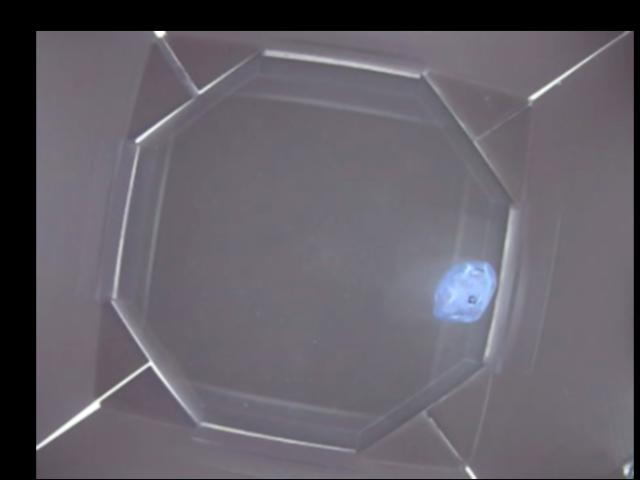Pebble: (431, 257, 494, 319)
